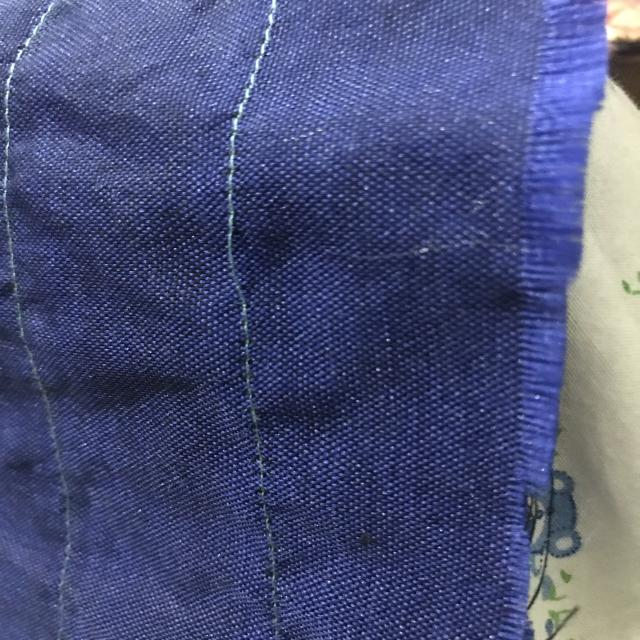good: (228, 362, 286, 494)
skip: (194, 211, 267, 333)
